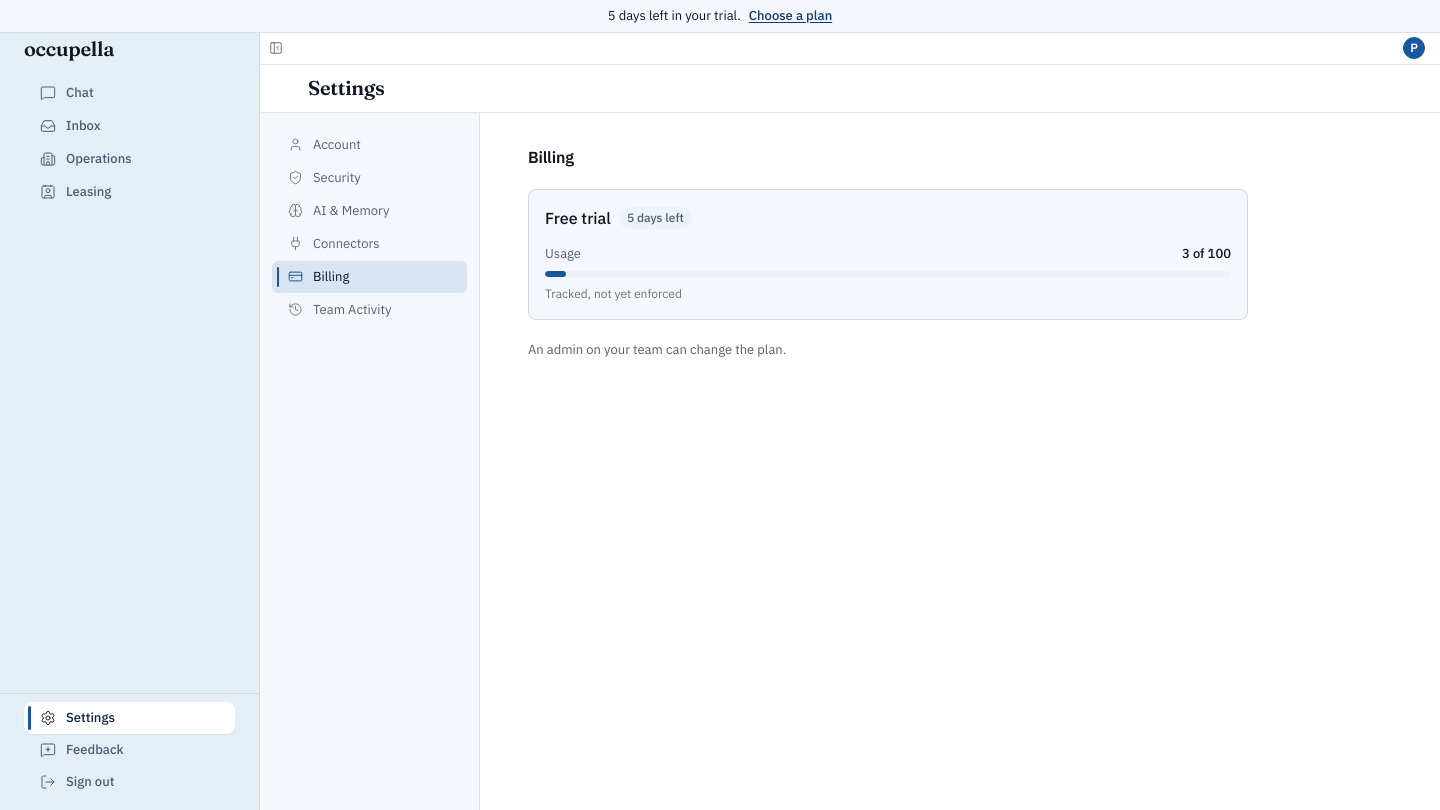
Test case: moving through the app keeps the session on every call › a refresh token that was rejected ends on sign-in, with the reason
Click the link "Inbox": (70, 125) [40,117,101,134]
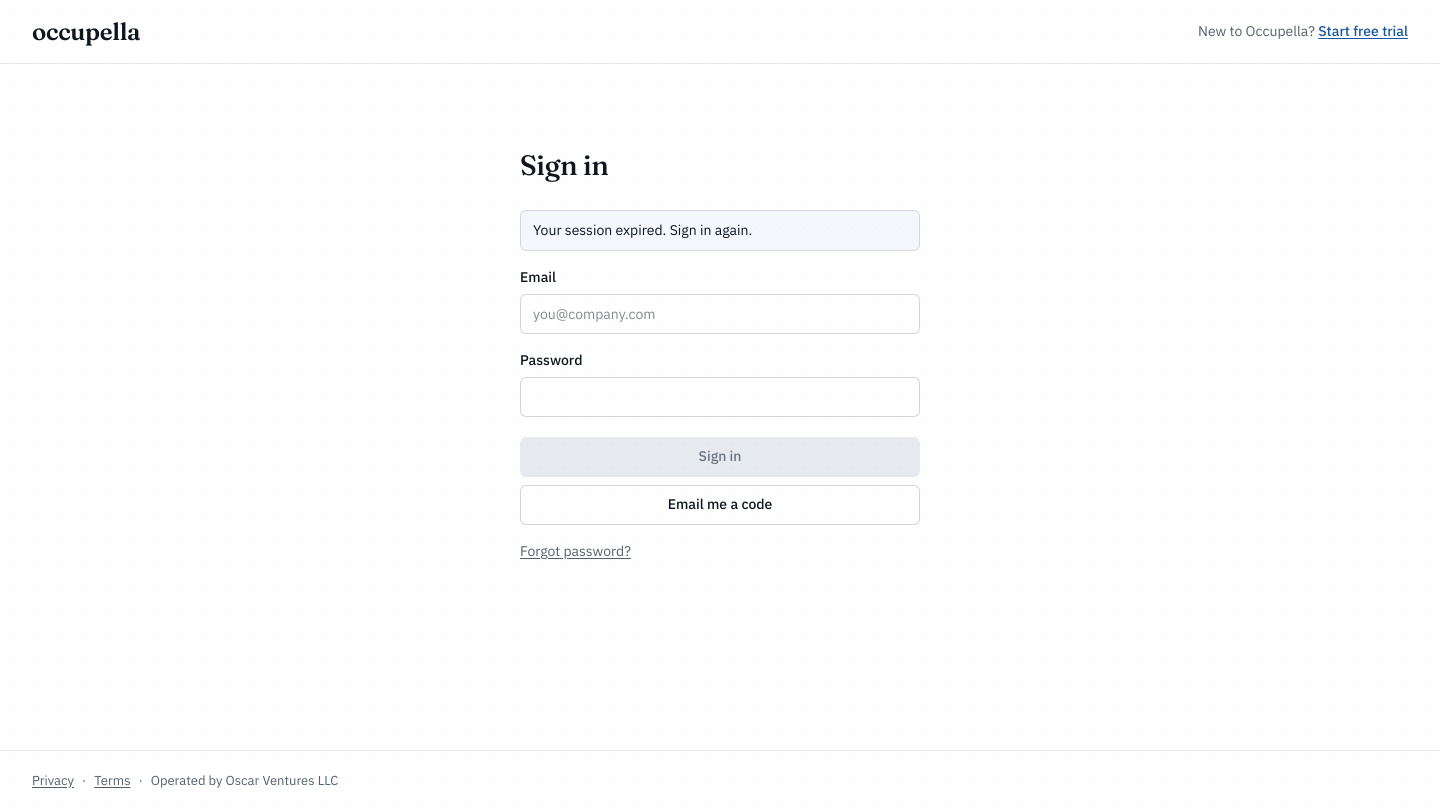
Result: the message with test id "login-session-expired" reads "Your session expired. Sign in again." at [533,221,752,239]
